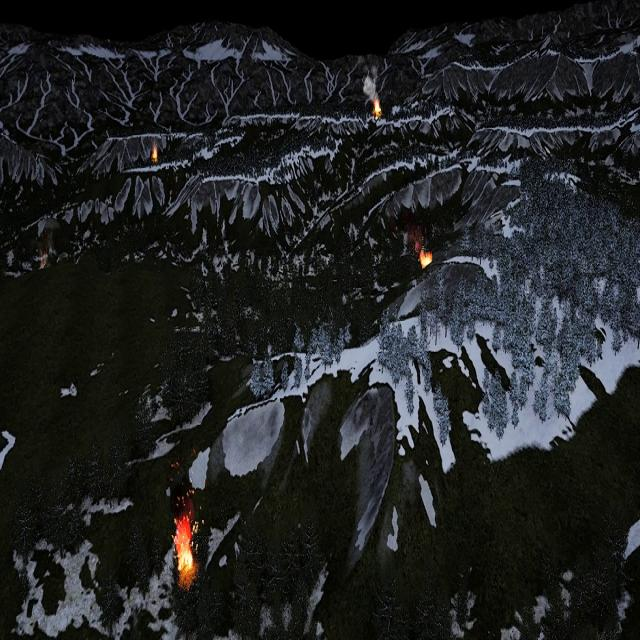fire: (175, 516, 195, 576), (420, 251, 433, 266), (150, 144, 158, 162), (374, 99, 382, 116)
smoke: (361, 60, 378, 101)
